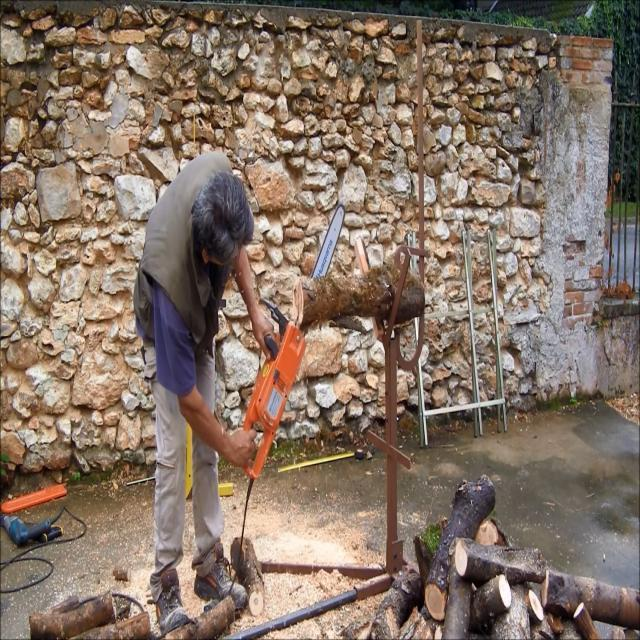Chainsaw: (207, 198, 361, 492)
